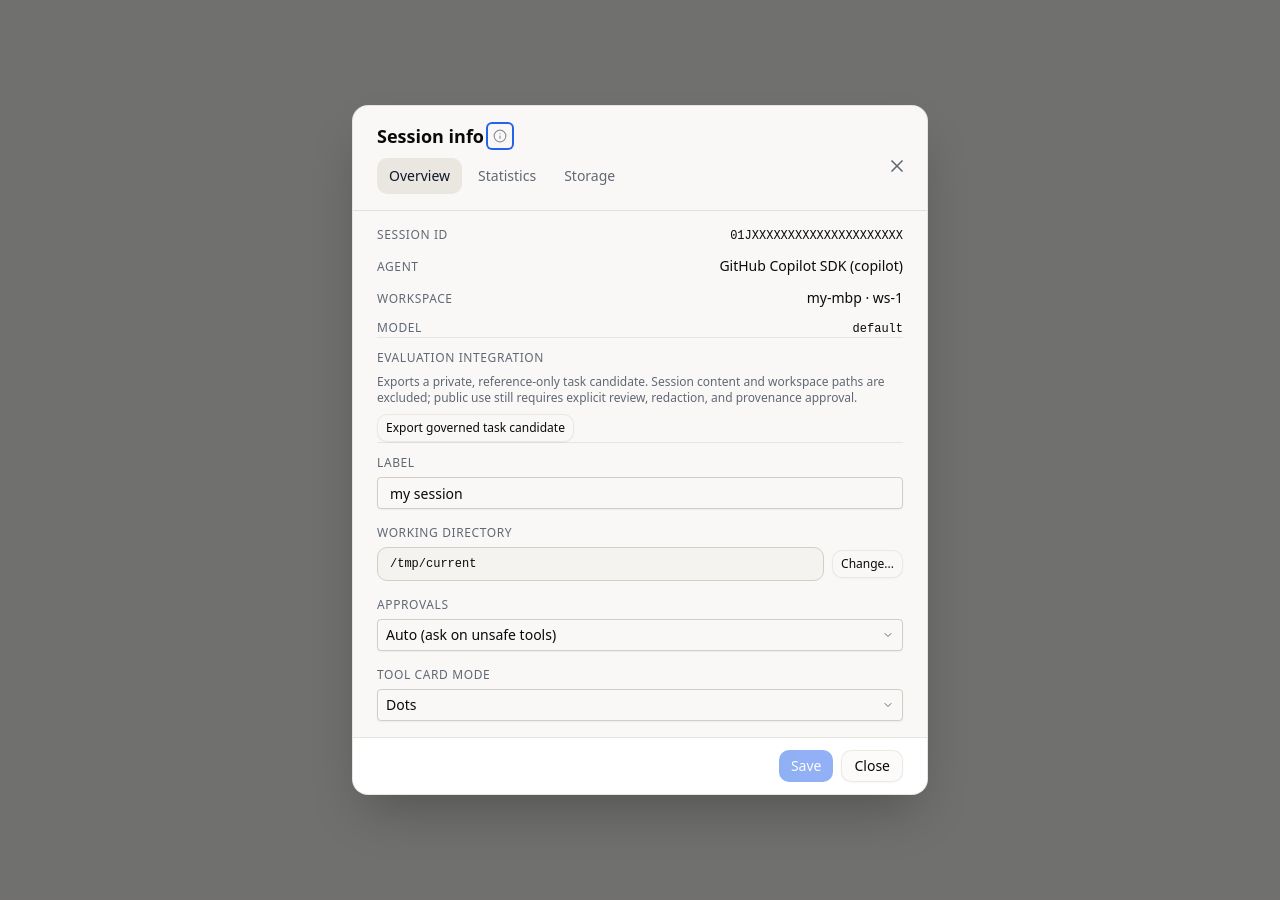
Test case: SessionMetadataDialog › does not mislabel provider context occupancy as cumulative API input usage
Click the tab with test id "session-info-statistics-tab": coordinates (507, 176) x1=466 y1=158 x2=548 y2=194
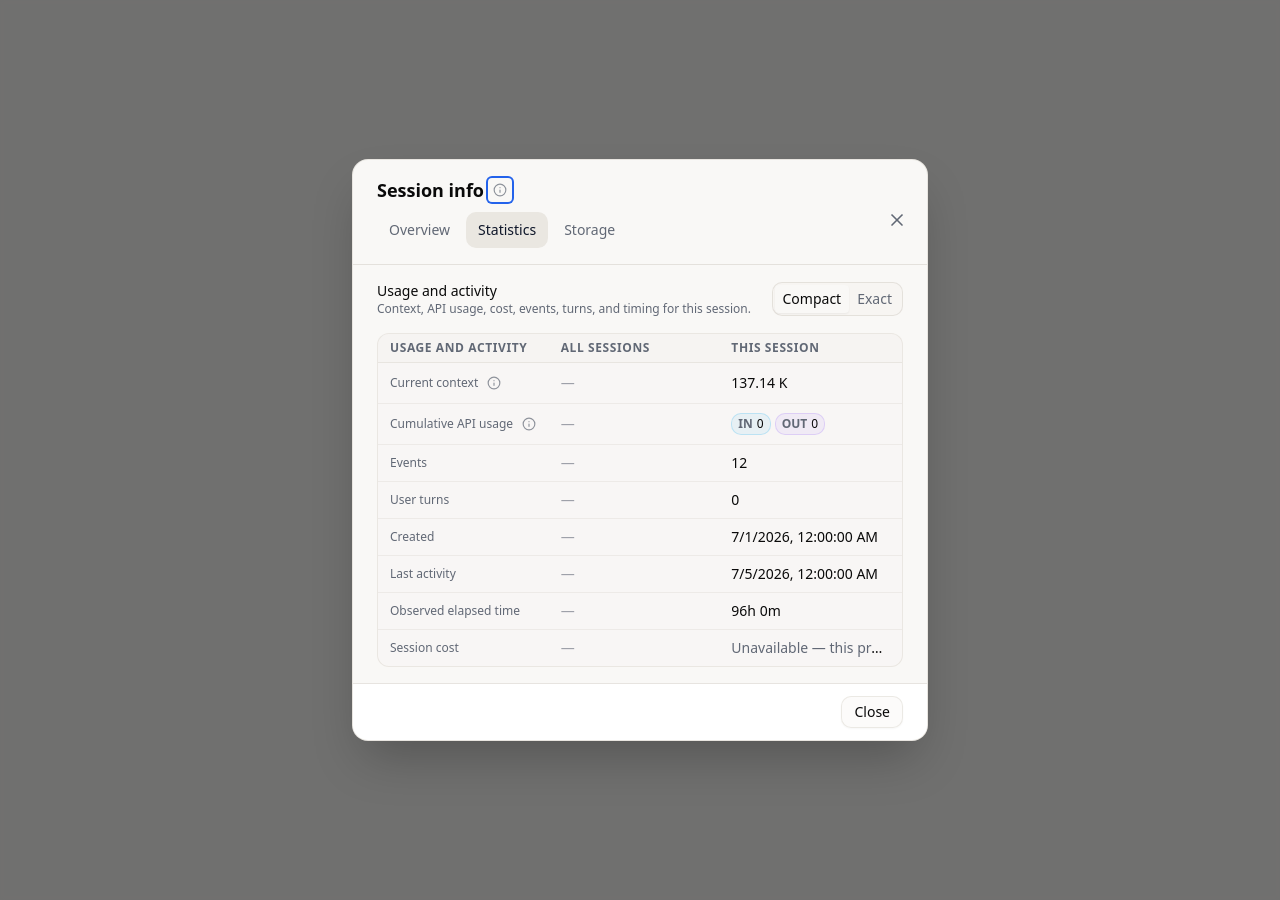
Expected: the dialog with test id "session-metadata-dialog" shows "Current context", x1=390 y1=374 x2=478 y2=391
Expected: the dialog with test id "session-metadata-dialog" shows "137.14 K", x1=731 y1=373 x2=787 y2=392
Expected: the dialog with test id "session-metadata-dialog" shows "Cumulative API usage", x1=390 y1=415 x2=513 y2=432
